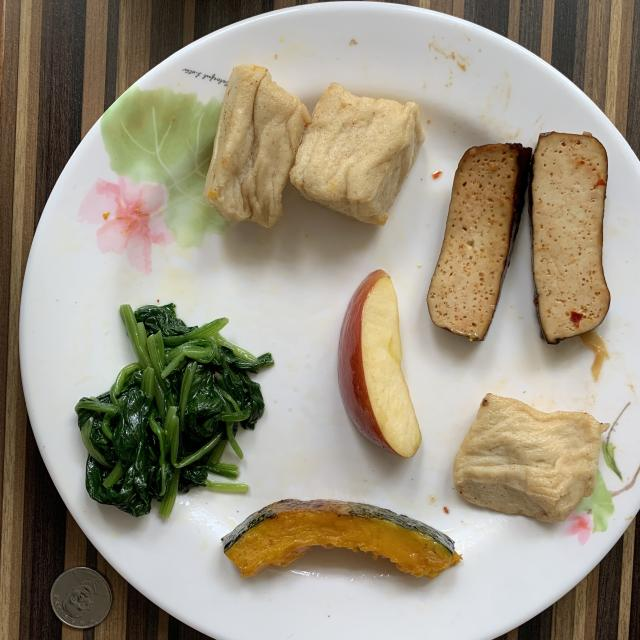apple -sliced-: (338, 270, 421, 458)
coin: (51, 568, 111, 629)
creamy tofu -without sauce-: (204, 65, 425, 228), (452, 394, 608, 521)
firm tofu: (428, 131, 610, 344)
mustard greens: (75, 304, 271, 519)
pumpkin: (222, 499, 461, 579)
